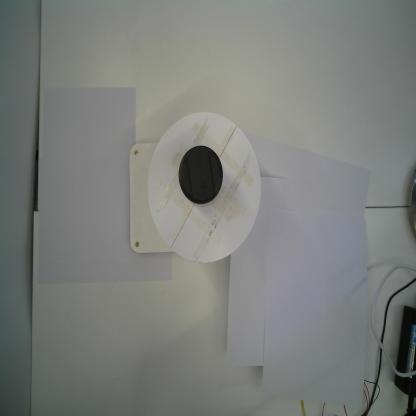Canned Food: (177, 143, 223, 207)
